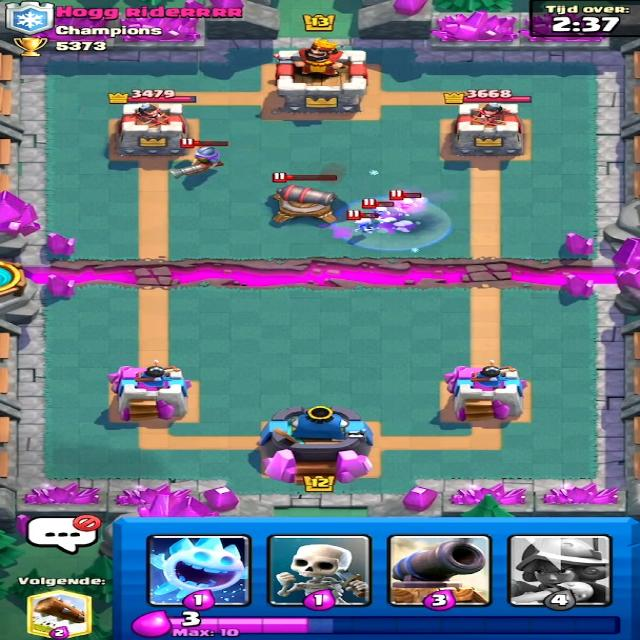Cannon_Card: (388, 536, 489, 607)
Enemy_Cannon_Troop: (265, 180, 343, 223)
Enemy_Musketeer_Troop: (161, 146, 232, 178)
Enemy_Skeleton_Troop: (368, 201, 393, 221), (356, 215, 374, 234), (395, 198, 416, 212)
Ice_Spirit_Card: (144, 532, 258, 608)
Musketeer_Card: (511, 534, 606, 606)
Skeleton_Card: (275, 538, 369, 603)
